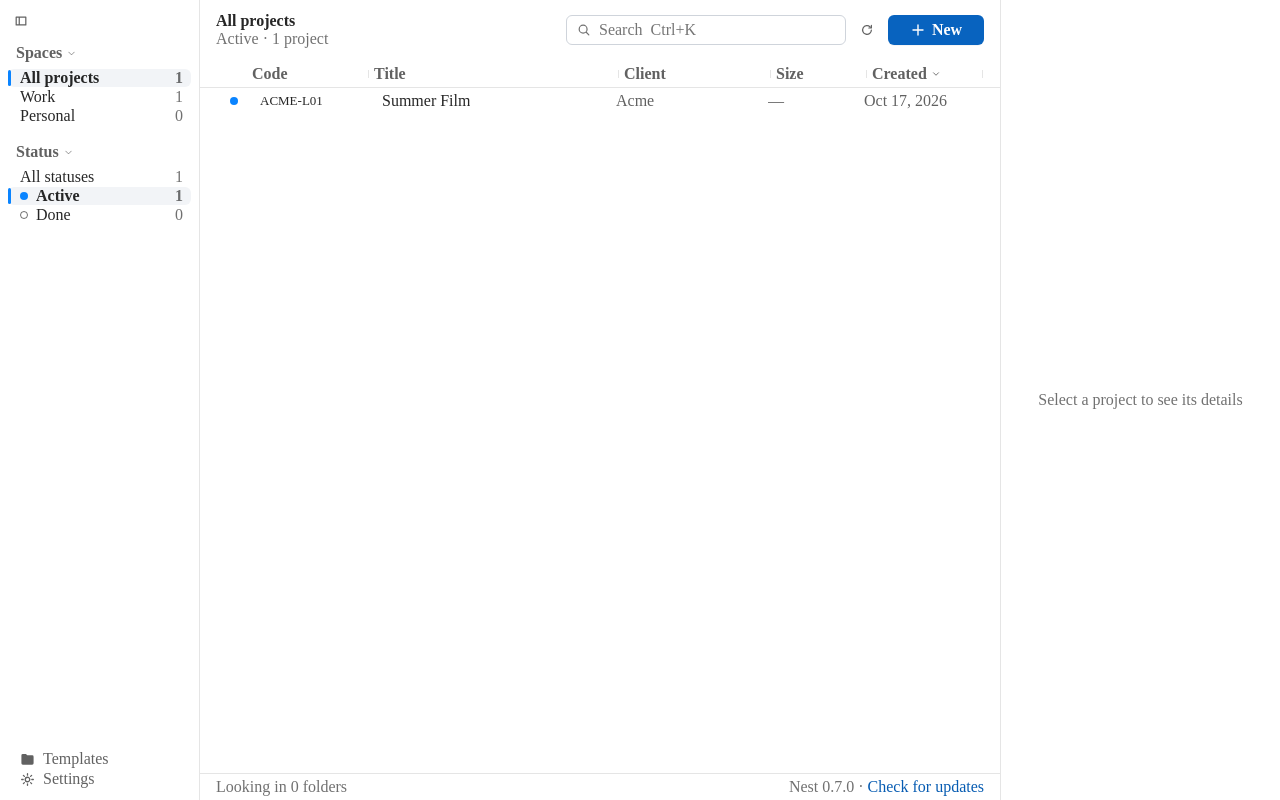
Test: Main: first steps › an empty search still shows the search empty state
Expected: the text "Summer Film" is shown, [382,92,470,110]
Type "zzz" into the search field named "Search projects" at [716, 30], box [597,20,835,40]
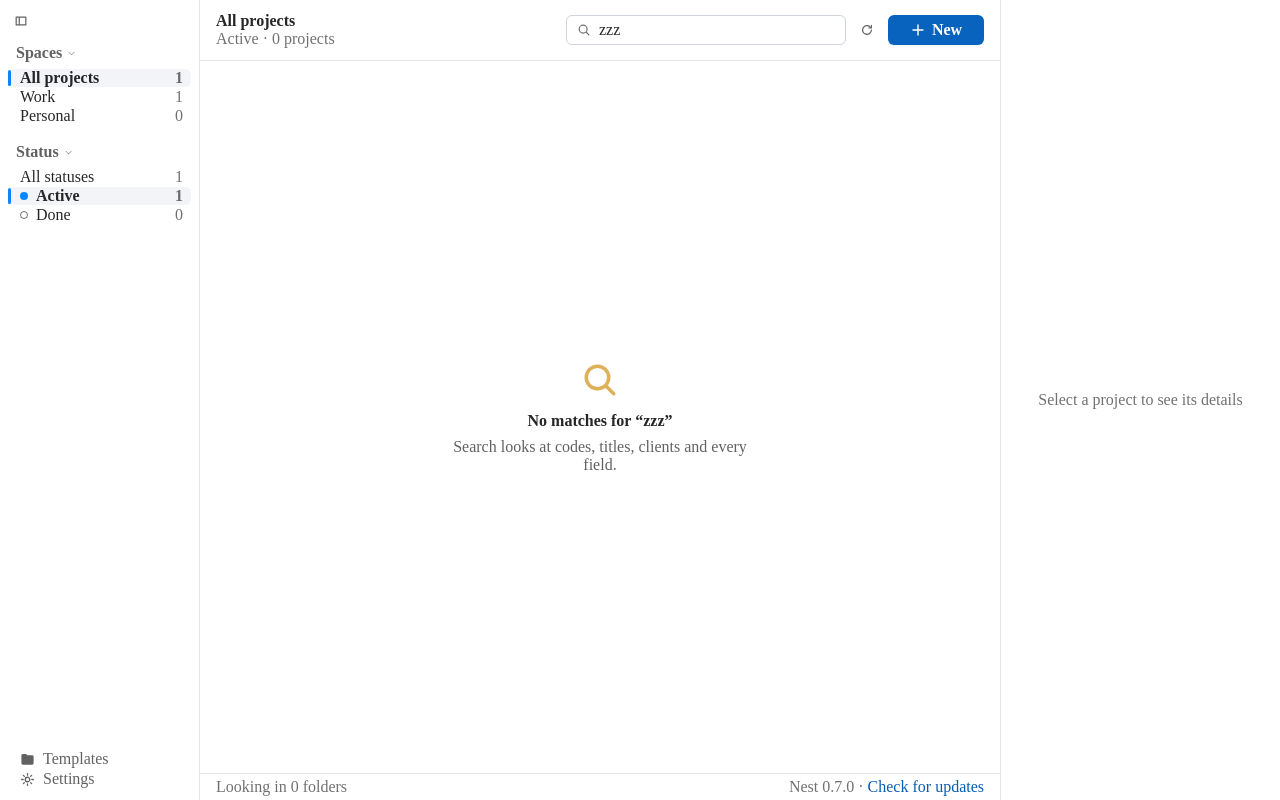
Now the text "No matches for “zzz”" is shown, box [528,412,672,430]
